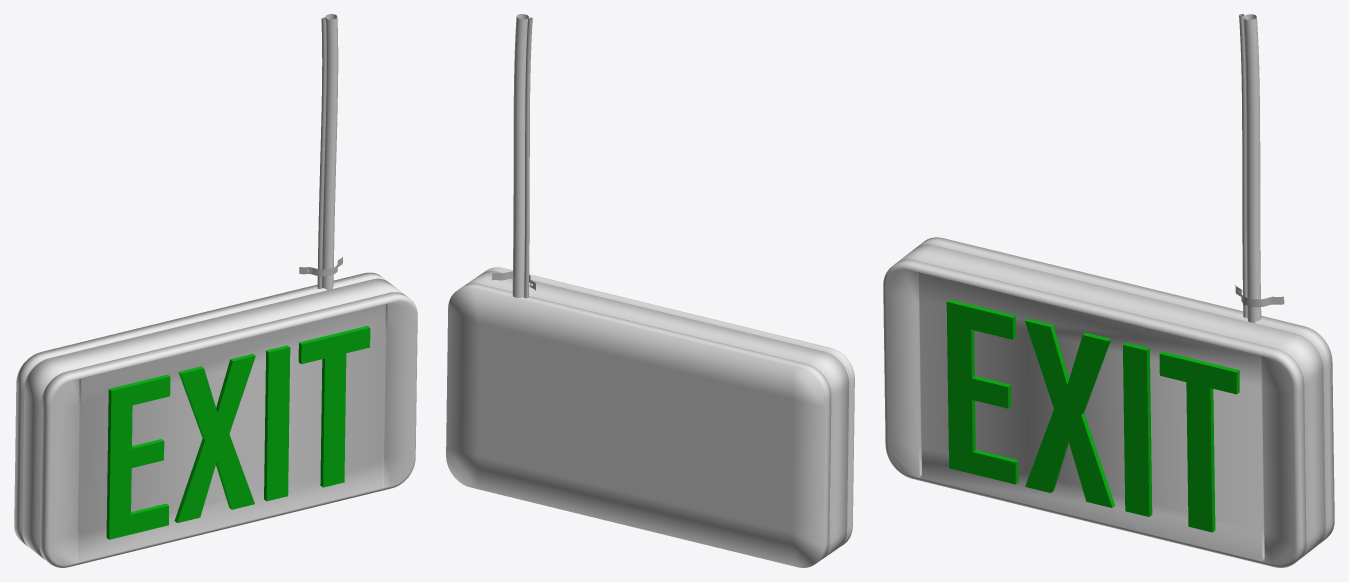
The model's file is exit_sign.glb.
The picture shows the model from 3 angles, left to right: view 1: azimuth 30°, elevation 25°; view 2: azimuth 150°, elevation 25°; view 3: azimuth 330°, elevation 25°; orthographic projection. The views are drawn at different scales.
Visible parts, largest first — view 1: Exit Sign Box, Text, Wire1, Wire2; view 2: Exit Sign Box, Wire1, Wire2; view 3: Exit Sign Box, Text, Wire1, Wire2.
Part boxes in pixels (x1,y1,x2,y2): Exit Sign Box: (14, 272, 417, 567); Text: (106, 326, 370, 539); Wire1: (322, 14, 338, 290); Wire2: (317, 17, 326, 288); Exit Sign Box: (446, 267, 854, 567); Wire1: (512, 14, 528, 297); Wire2: (524, 17, 532, 298); Exit Sign Box: (883, 237, 1334, 567); Text: (946, 299, 1239, 532); Wire1: (1243, 14, 1261, 322); Wire2: (1239, 14, 1247, 317).
Size of the model in its own units: 0.3048 by 0.3667 by 0.0515.
